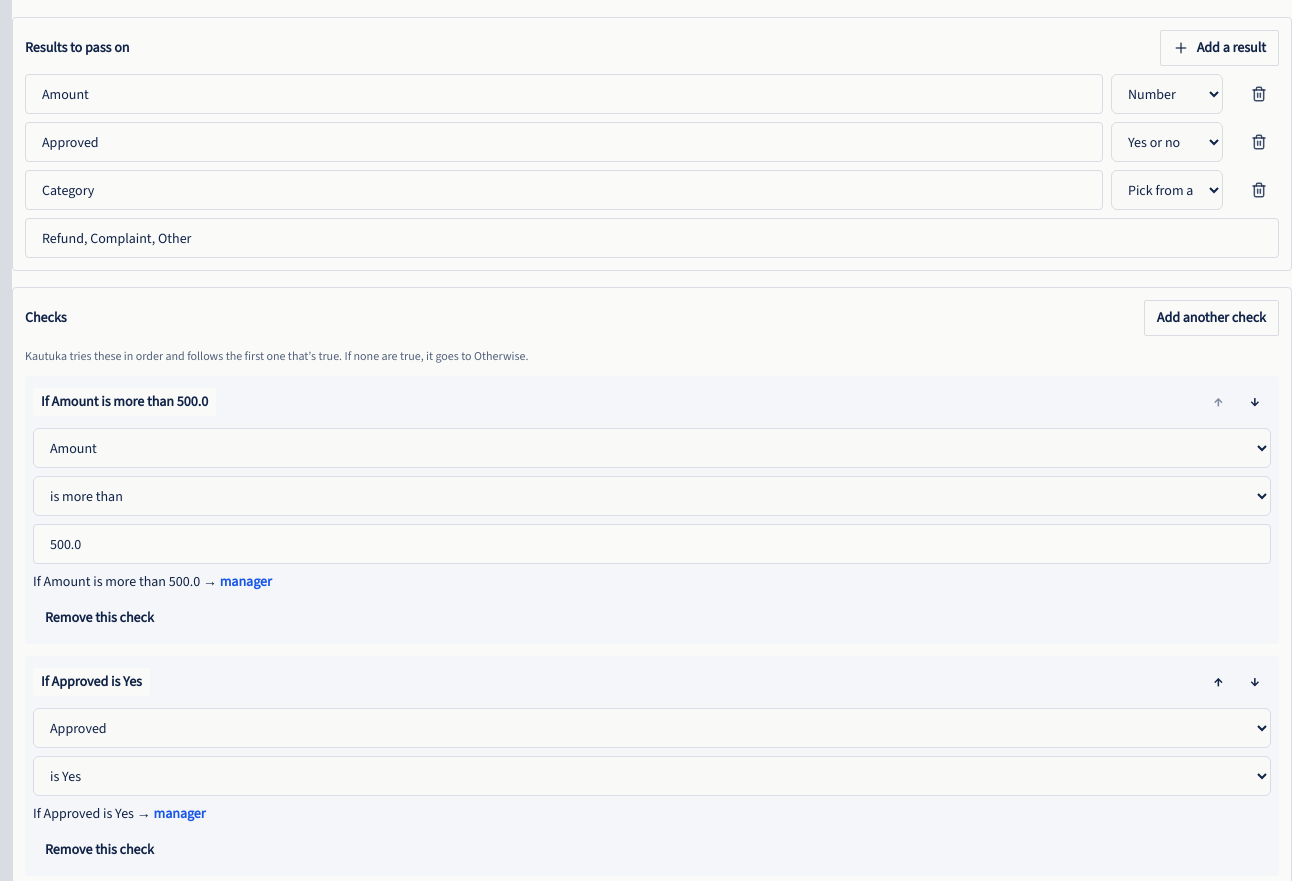
Test: WorkflowStepSettings result-aware checks › offers the current step results and adds a focused result on that step
(page scrolled)
Select "Add a result to Step 1 · Accounts assistant" in the dropdown named "If 1 result" at (652, 448), box [33,428,1271,468]
(page scrolled)
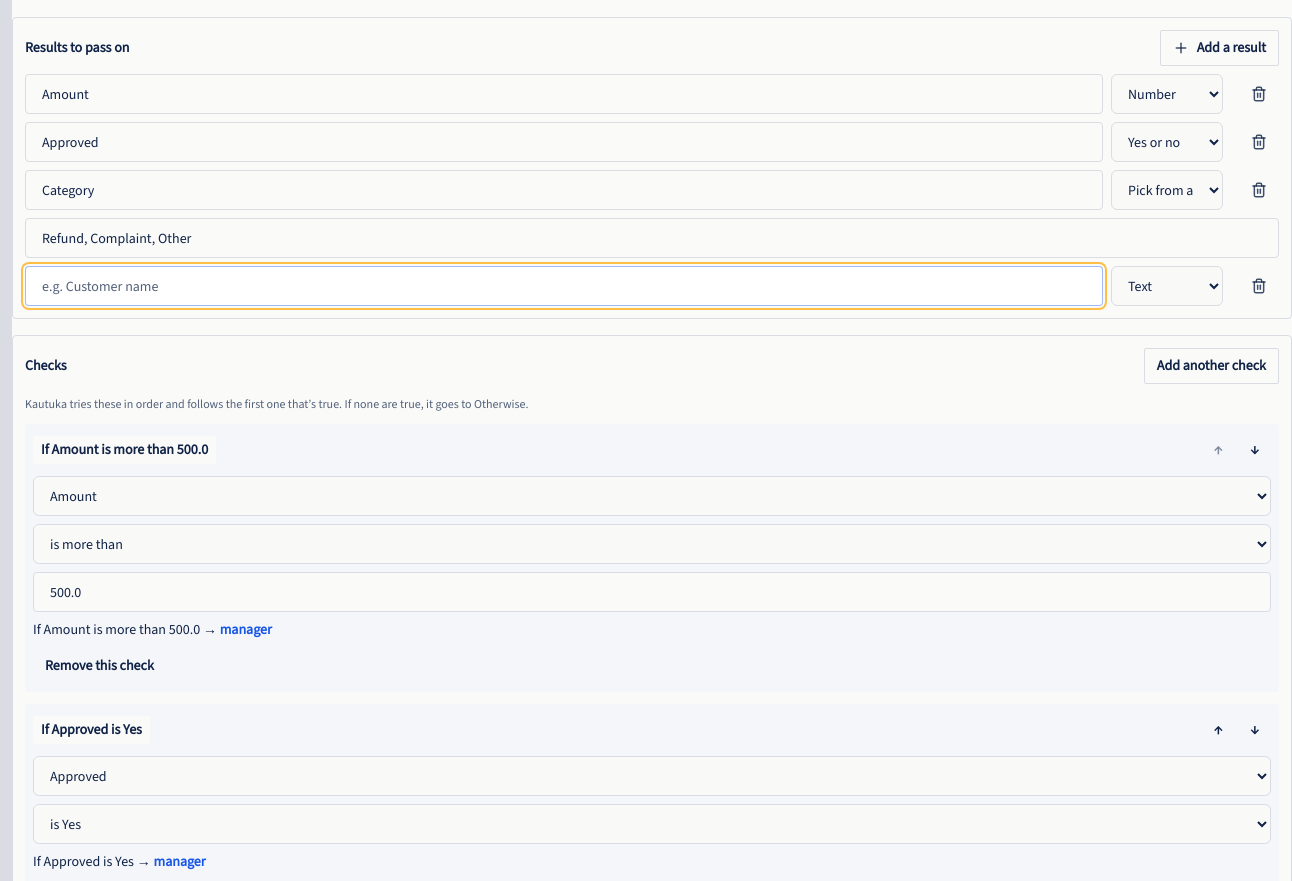
expect the number of fields named "Results to pass on field name" is 4: met, box [25,74,1103,114]; [25,122,1103,162]; [25,170,1103,210]; [25,266,1103,306]
expect the field named "Results to pass on field name" is empty: met, box [25,266,1103,306]
